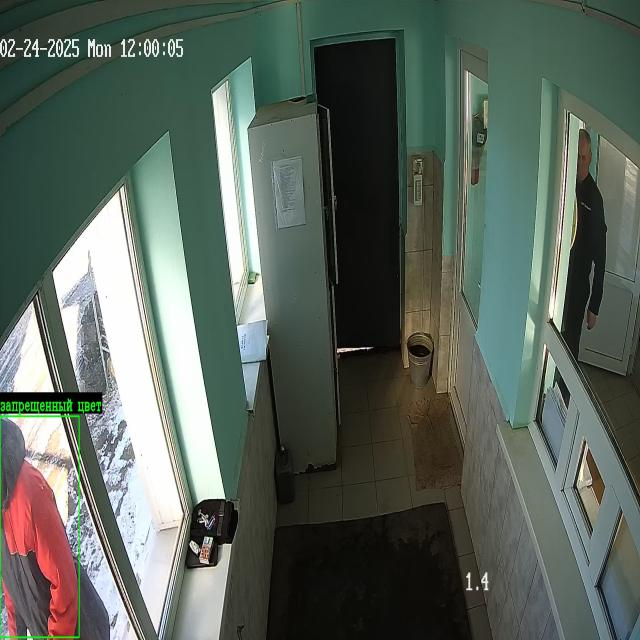Person: (561, 129, 607, 360)
Red uniform: (0, 418, 109, 639)
